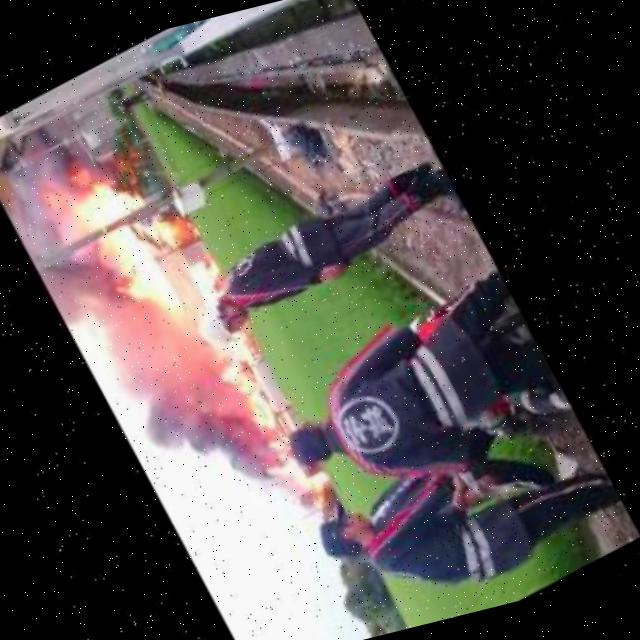fire: (87, 179, 273, 407), (53, 153, 146, 239), (260, 439, 340, 524), (214, 355, 282, 443)
